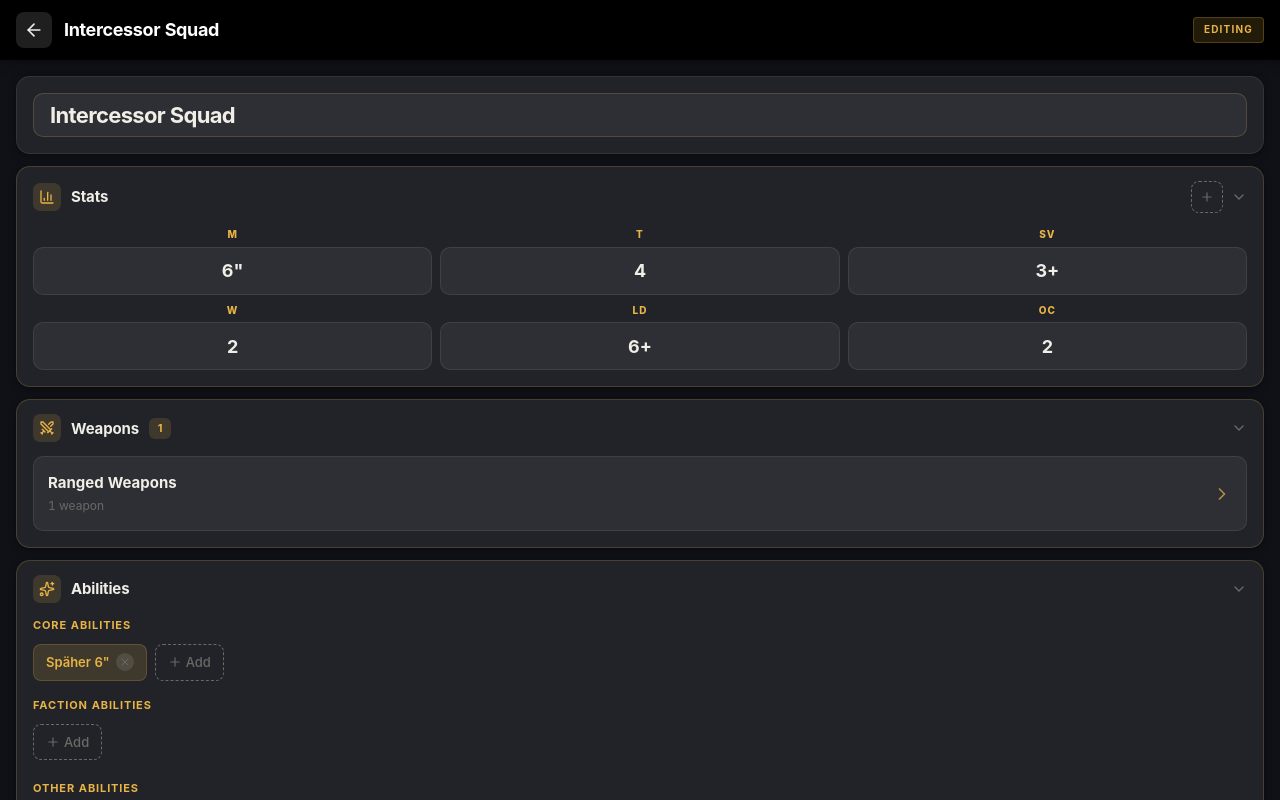
Test case: MobileCardEditor with a 40k-11e card › keeps a unit's name a plain string
Replace the text in the 1st field showing "Intercessor Squad" with "Assault Squad" at (640, 115), box [33, 93, 1247, 137]
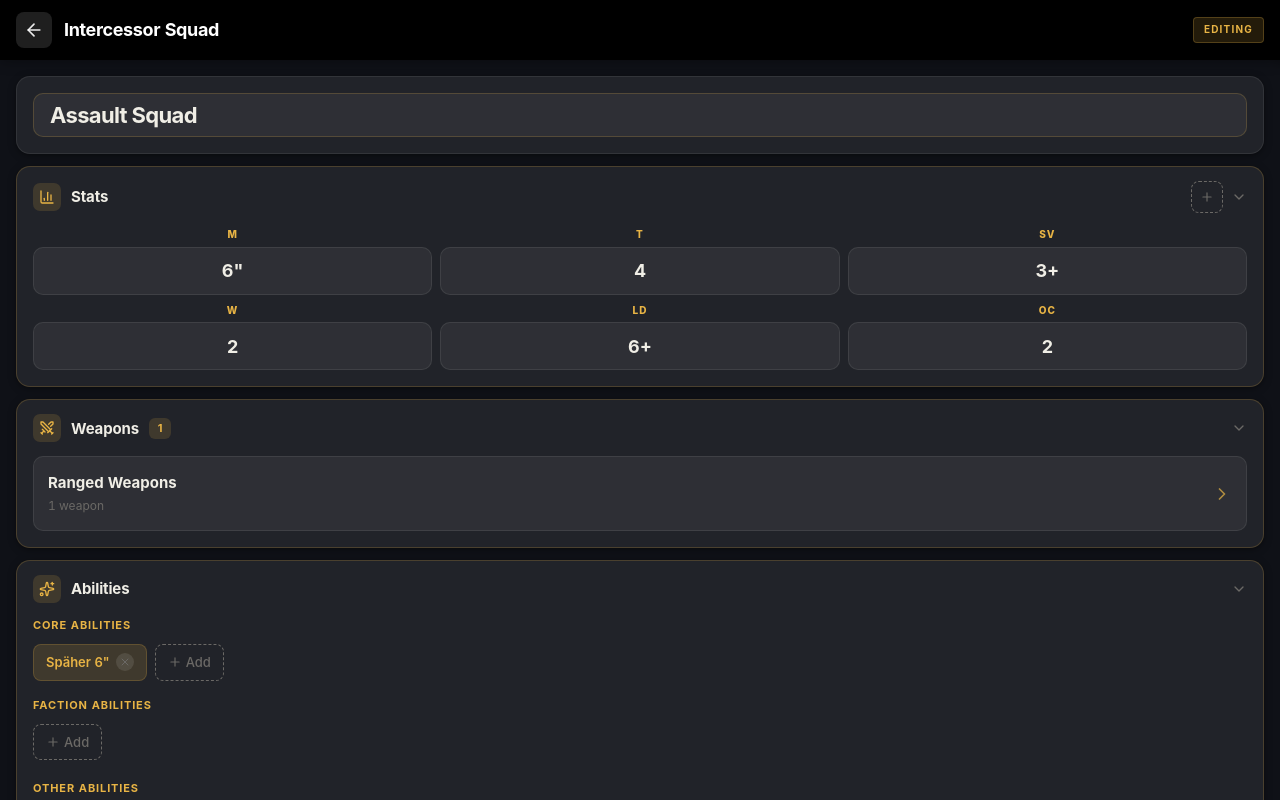
Leave the 1st field showing "Intercessor Squad", box [33, 93, 1247, 137]
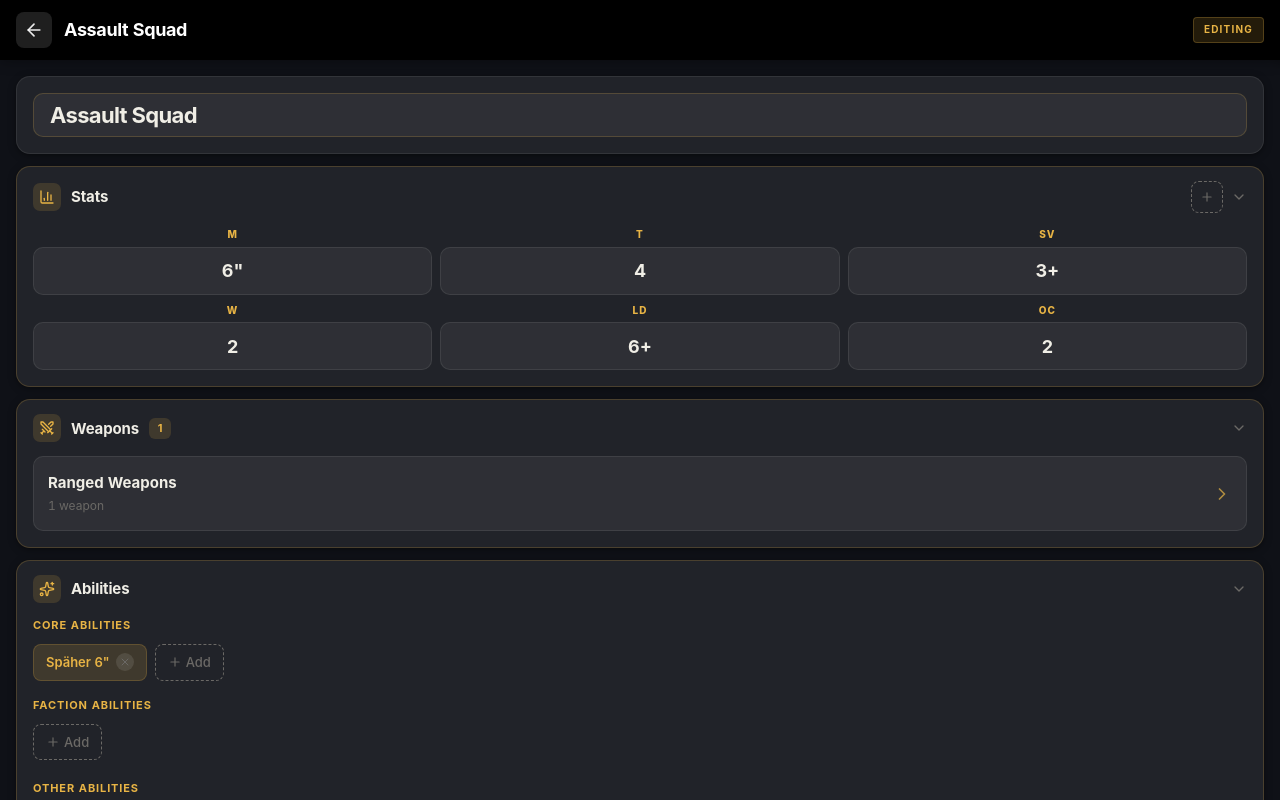
Expected: the text "Assault Squad" is shown, [64, 19, 187, 40]
